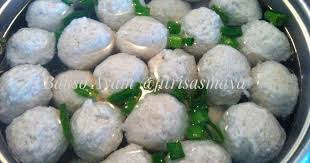bakso: (14, 3, 293, 163)
